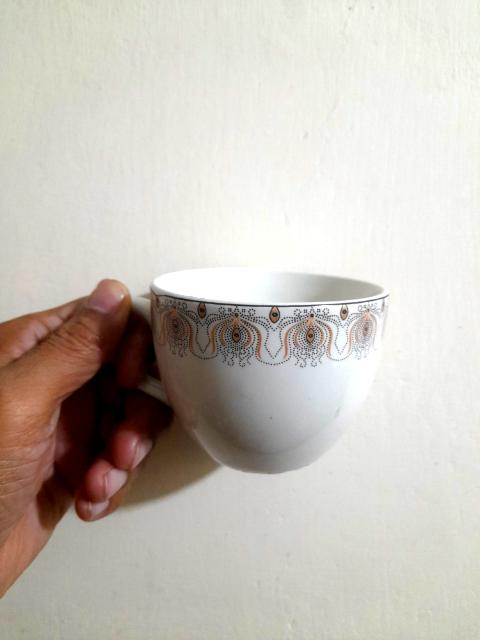Cup: (136, 269, 387, 472)
